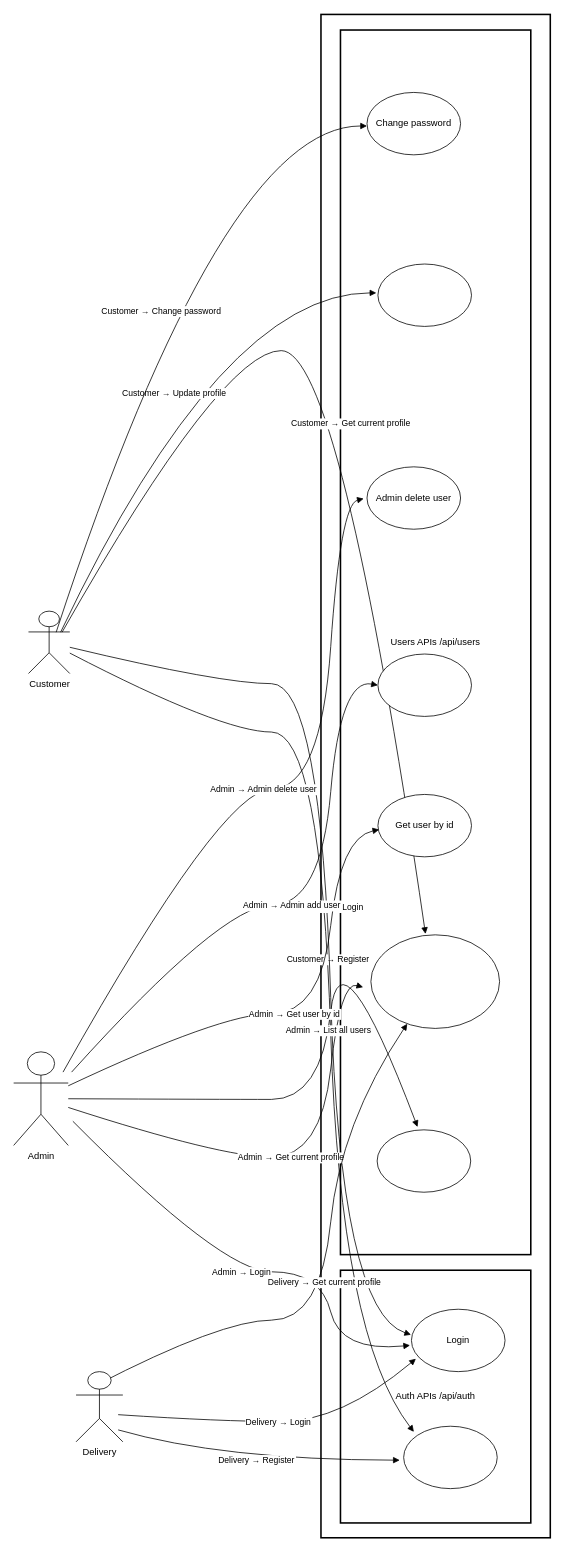
Some shapes in this 565 by 1551 pixel diagram are drawn without their labels. The centre of each missing label's shape, as x and y in pixels:
Admin add user: point 424,684
Get current profile: point 435,981
List all users: point 423,1160
Register: point 450,1457
Update profile: point 424,294
